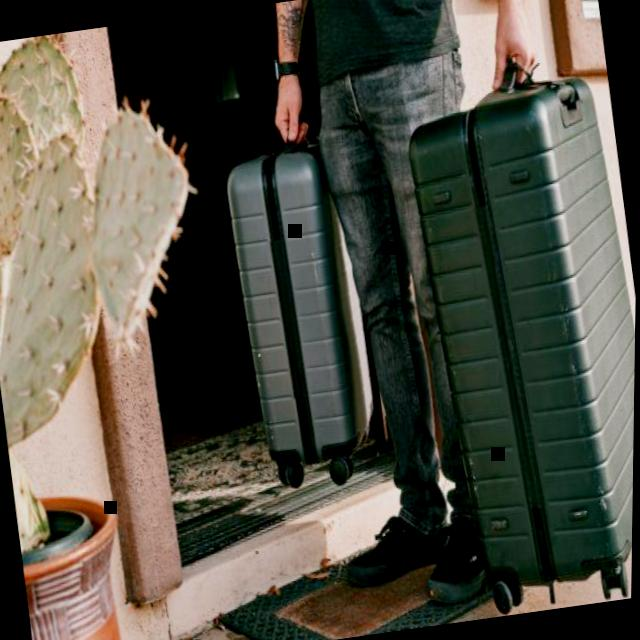luggage: (390, 62, 639, 597), (214, 133, 391, 486)
